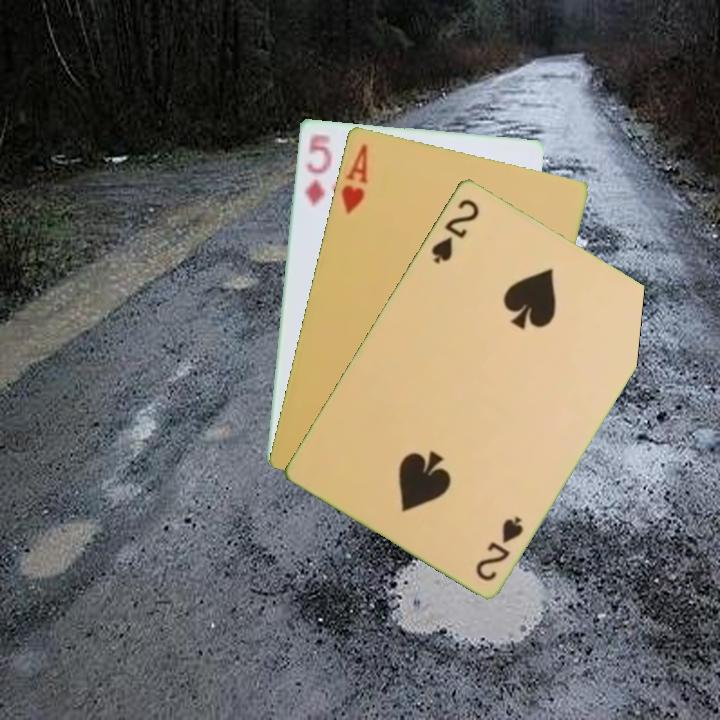2s: (471, 512, 527, 584), (427, 194, 482, 267)
5d: (301, 129, 334, 209)
Ah: (337, 139, 371, 216)
